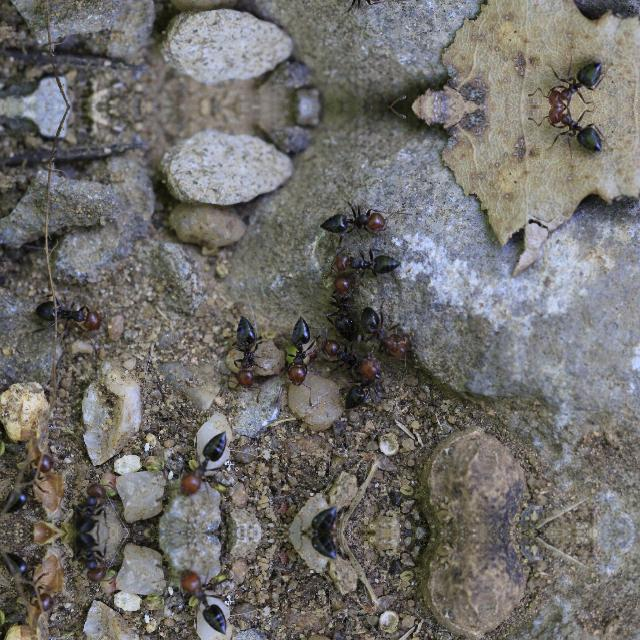Crematogaster: (168, 425, 228, 503), (168, 562, 228, 640), (540, 106, 616, 154), (540, 58, 616, 106), (339, 361, 401, 415), (366, 292, 418, 356), (32, 294, 104, 340), (1, 446, 51, 512), (1, 554, 51, 618), (320, 200, 398, 240), (224, 306, 262, 386), (322, 268, 362, 342), (278, 313, 314, 391), (64, 476, 108, 532), (64, 533, 108, 589), (326, 245, 414, 272), (317, 327, 363, 365), (295, 502, 341, 532), (295, 533, 341, 563), (320, 0, 398, 11)
